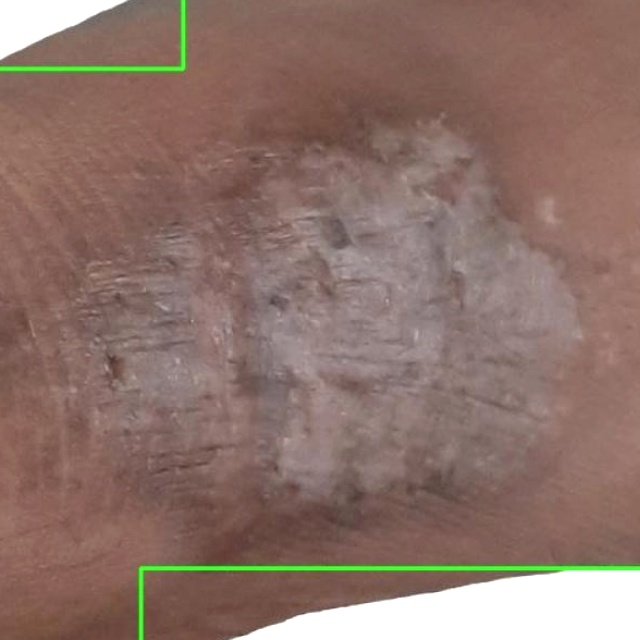Eczema: (139, 568, 639, 639), (0, 0, 183, 68)
